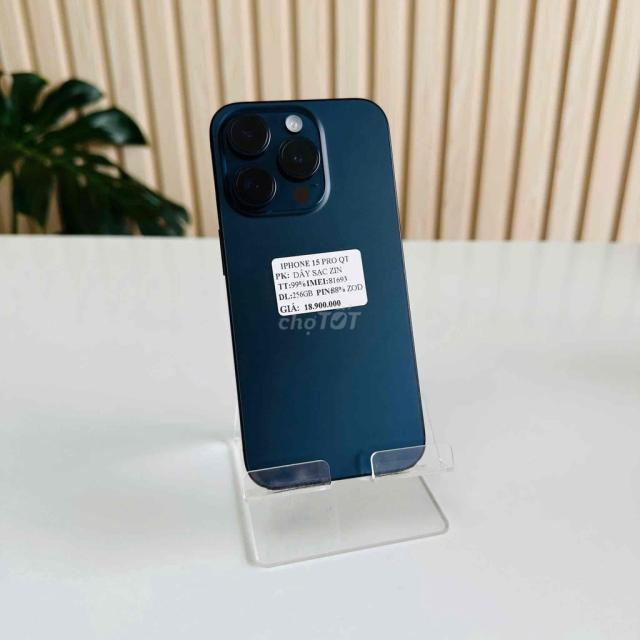gen_15: (197, 93, 439, 495)
